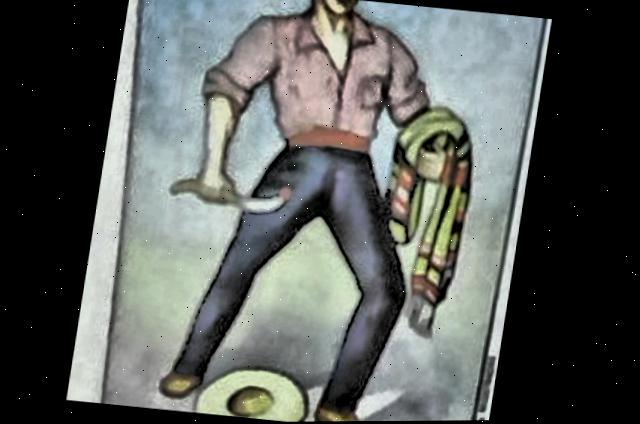El Valiente: (98, 0, 553, 423)
